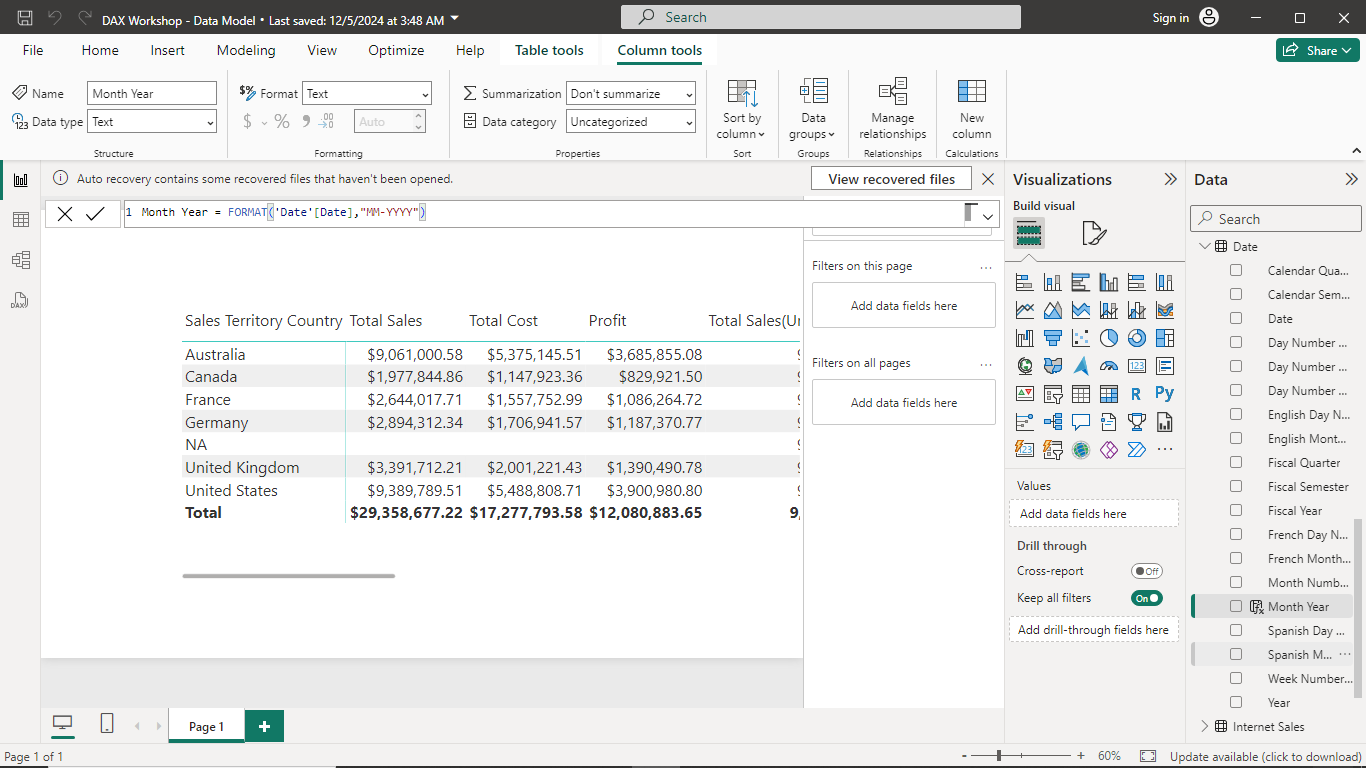

What the dashboard file says about the page in this screenshot:
{"tool":"powerbi","page":{"name":"Page 1","canvas":[1280,720],"ordinal":0},"visuals":[{"type":"pivotTable","fields":{"Values":["Internet Sales.Total Sales","Internet Sales.Total Cost","Internet Sales.Profit","Internet Sales.Total Sales(United States)","Internet Sales.Prorgin Margin","Internet Sales.YTD sales","Internet Sales.Total Sales(Canada)","Internet Sales.Total Sales(All countries)","Internet Sales.Fiscal YTD Sales","Internet Sales.YTD Sales(weekdays)"],"Rows":["Sales Territory.Sales Territory Country","Date.Year","Date.Day Number Of Week"]},"box":[231.8,126,1048.2,465.3],"z":1}]}

Visuals, with their boxes on the page's 1280x720 design canvas (x1, y1, x2, y2). These are canvas units, not pixel positions in the 1366x768 screenshot, which may show the page scaled, cropped or inside an application window:
pivotTable - Internet Sales.Total Sales x Internet Sales.Total Cost: 232,126,1280,591
